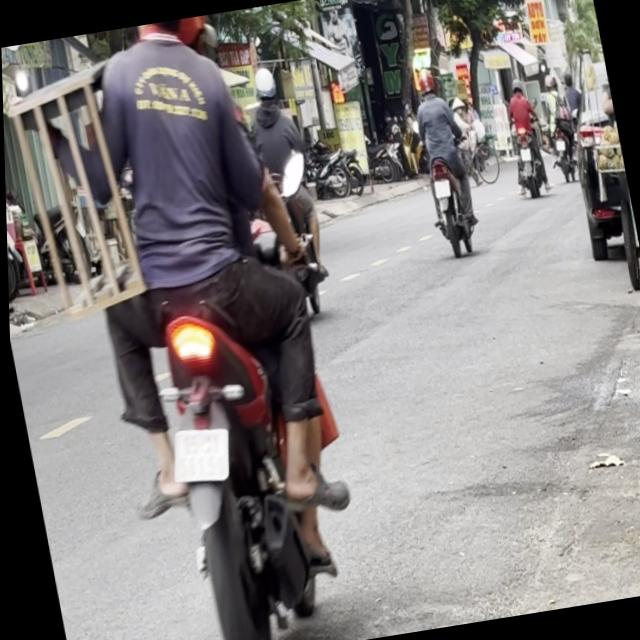helmet: (248, 64, 278, 106)
licenseplate: (38, 4, 381, 640), (227, 58, 337, 326)
nohelmet: (164, 422, 228, 484)
